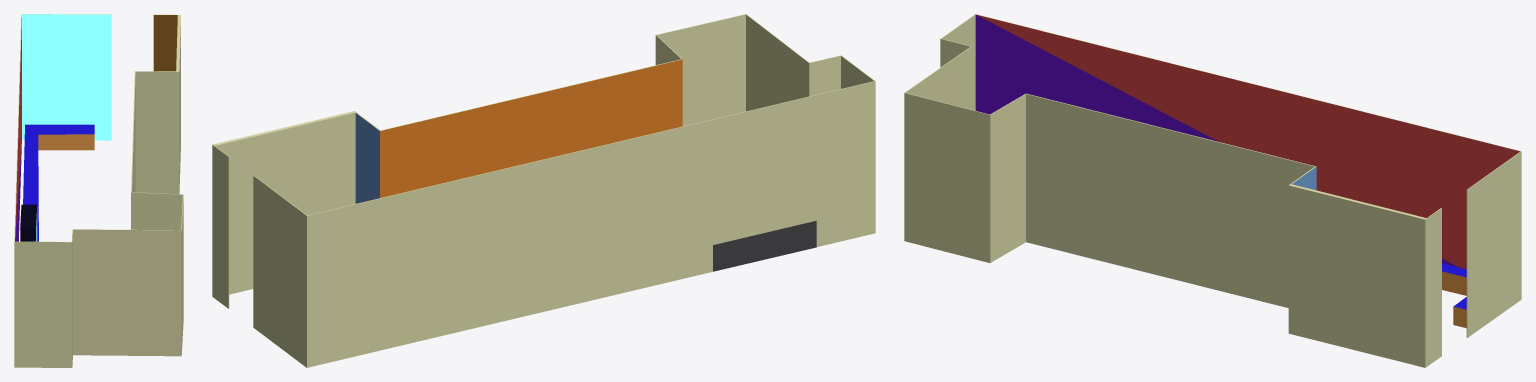
The model's file is simple_gamecity.dae.
The picture shows the model from 3 angles, left to right: view 1: azimuth 30°, elevation 25°; view 2: azimuth 150°, elevation 25°; view 3: azimuth 270°, elevation 25°; orthographic projection. The views are drawn at different scales.
Parts seen in each view (by area): view 1: node1, node0, node3; view 2: node1, node2; view 3: node1, node0.
Boxes of the visible parts, x1,y1,x2,y2 form: node1: (14, 14, 183, 367); node0: (23, 124, 94, 241); node3: (20, 204, 37, 241); node1: (212, 14, 875, 367); node2: (713, 220, 816, 271); node1: (904, 14, 1521, 367); node0: (1442, 263, 1466, 327).
Bounding box in the file's own units: 11.9 × 15.1 × 4.
